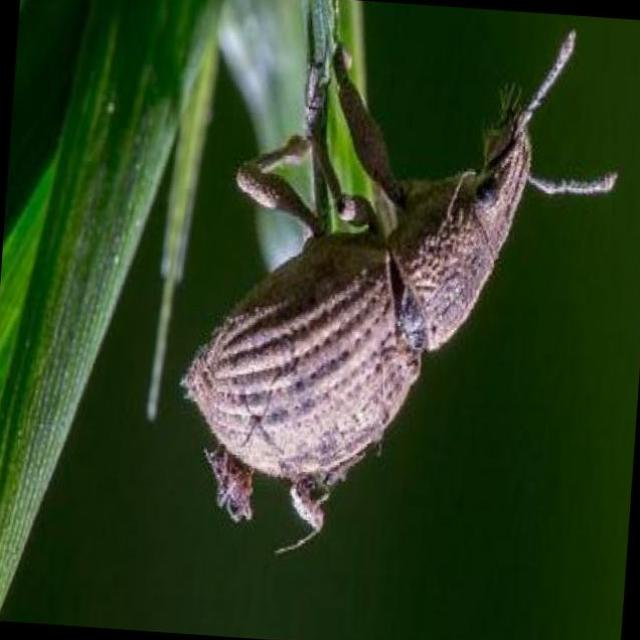ricebug: (183, 32, 615, 553)
